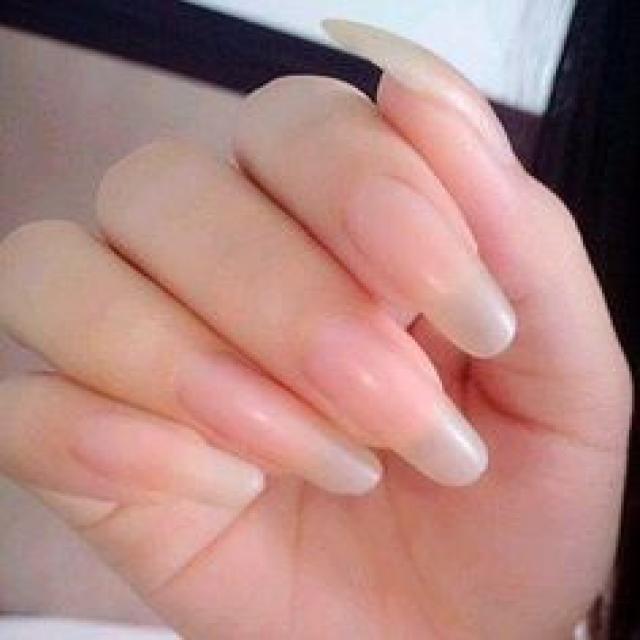Fingernail: (305, 315, 485, 489), (344, 178, 514, 357), (322, 20, 521, 168), (180, 355, 383, 497), (75, 409, 265, 507)
